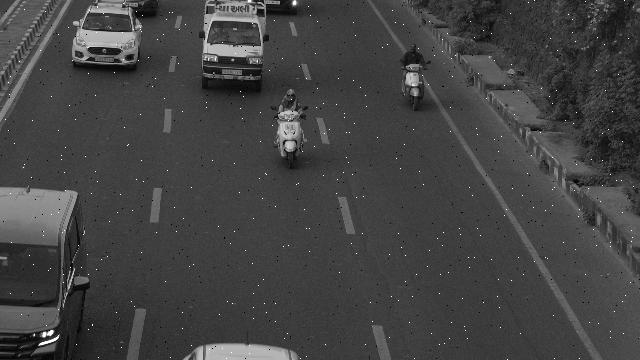Without Helmet: (284, 87, 298, 100), (408, 43, 416, 54)
